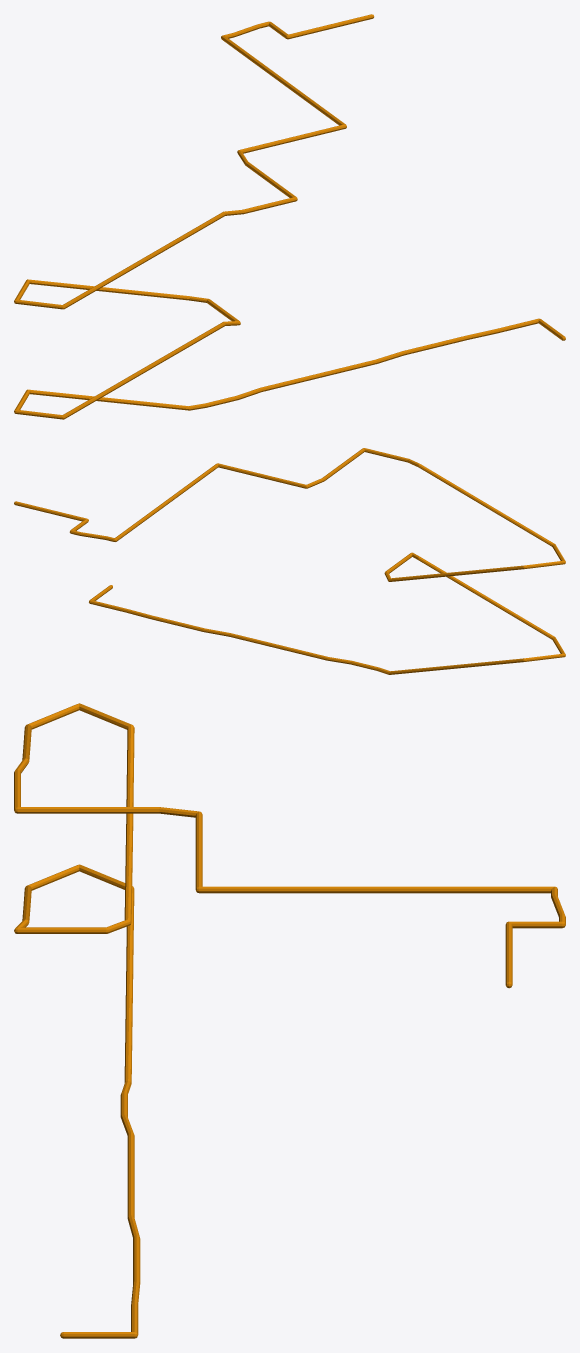
The picture shows the model from 3 angles, top to bottom: view 1: azimuth 30°, elevation 25°; view 2: azimuth 150°, elevation 25°; view 3: azimuth 270°, elevation 25°; orthographic projection. The views are drawn at different scales.
Size of the model in its own units: 2595 by 1020 by 1553.
